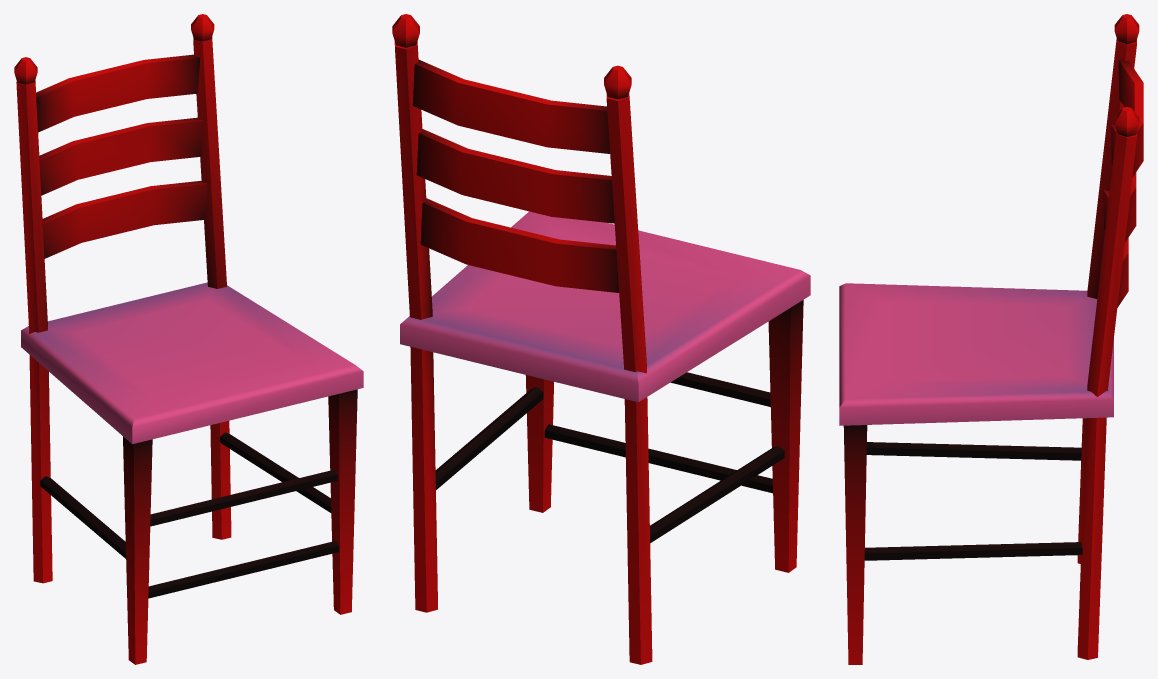
File: CI_Kitchen_Chair.glb
The picture shows the model from 3 angles, left to right: view 1: azimuth 30°, elevation 25°; view 2: azimuth 150°, elevation 25°; view 3: azimuth 270°, elevation 25°; orthographic projection. The views are drawn at different scales.
Parts seen in each view (by area): view 1: CI_Kitchen_Chair; view 2: CI_Kitchen_Chair; view 3: CI_Kitchen_Chair.
Part boxes in pixels (left/top/right/bottom): CI_Kitchen_Chair: left=14, top=14, right=363, bottom=664; CI_Kitchen_Chair: left=392, top=14, right=810, bottom=664; CI_Kitchen_Chair: left=839, top=14, right=1143, bottom=664.
Size of the model in its own units: 0.44 by 0.9205 by 0.4657.
